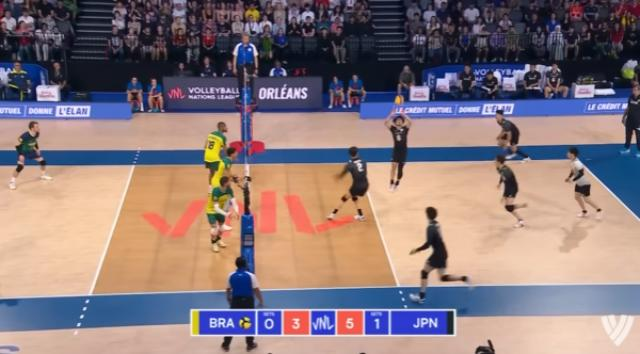Levantador: (378, 103, 424, 193), (198, 170, 248, 249)
Libero: (3, 112, 63, 200), (560, 138, 606, 224)
bola: (390, 88, 406, 108)
